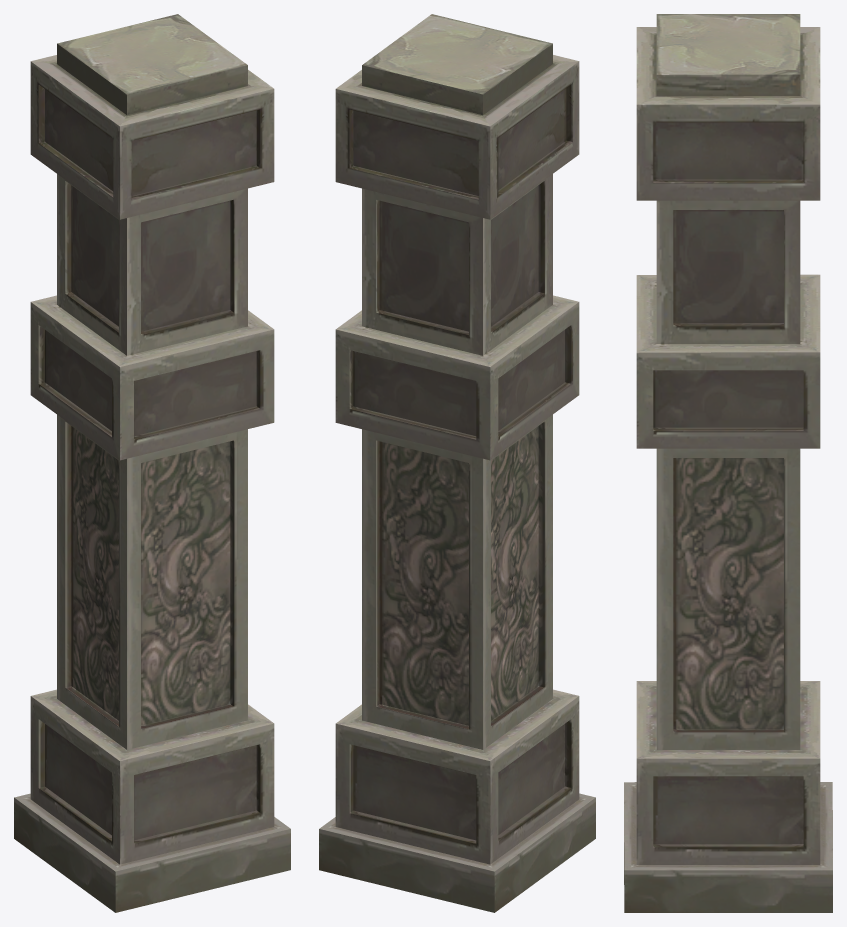
The model's file is cj_xinshou_zhuzi01_53_33_2094out.fbx.
3 renders of one model, left to right at view 1: azimuth 30°, elevation 25°; view 2: azimuth 150°, elevation 25°; view 3: azimuth 270°, elevation 25°, orthographic. The views are drawn at different scales.
Parts seen in each view (by area): view 1: cj_xinshou_zhuzi01; view 2: cj_xinshou_zhuzi01; view 3: cj_xinshou_zhuzi01.
Part boxes in pixels (x1,y1,x2,y2): cj_xinshou_zhuzi01: [14, 14, 290, 912]; cj_xinshou_zhuzi01: [319, 14, 595, 912]; cj_xinshou_zhuzi01: [624, 14, 832, 912].
Bounding box in the file's own units: 1.16 × 5.06 × 1.16.
